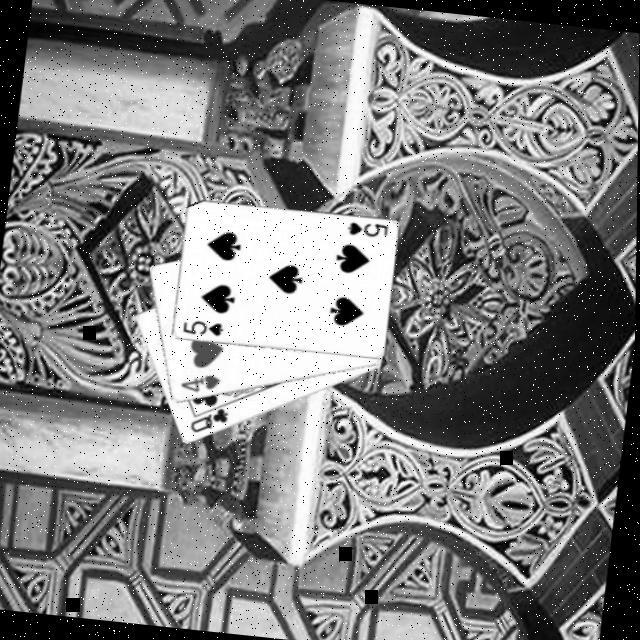4H: (180, 367, 226, 395)
5S: (181, 314, 229, 338), (345, 216, 393, 240)
QC: (189, 400, 234, 437)
